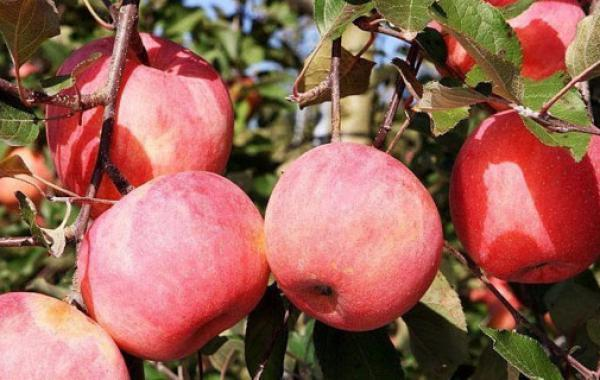apple: (262, 144, 445, 330), (75, 175, 262, 353), (42, 27, 254, 183), (452, 111, 600, 288)
